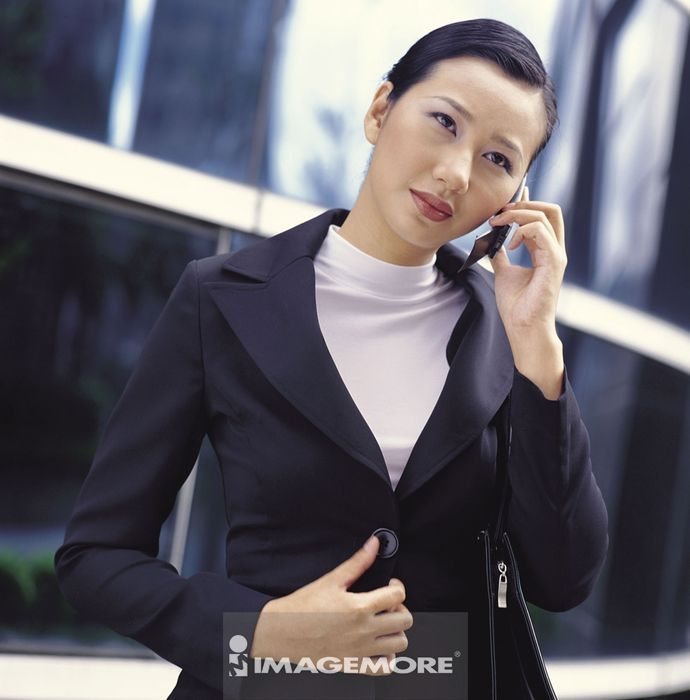talk: (384, 85, 569, 382)
